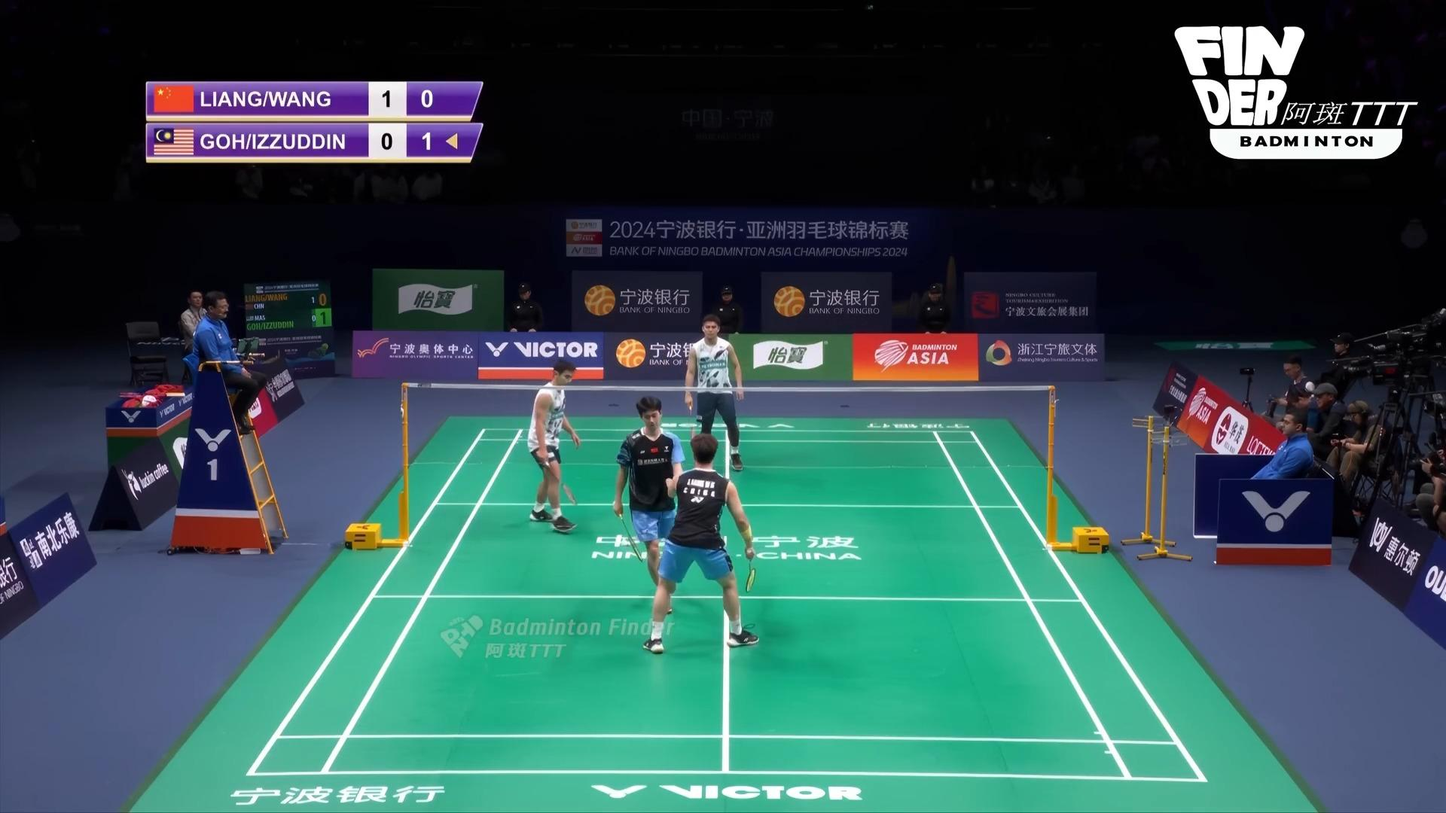player: (642, 434, 759, 654), (612, 395, 683, 613), (685, 313, 745, 473), (528, 358, 581, 533)
shuttlecock: (620, 539, 631, 548)
